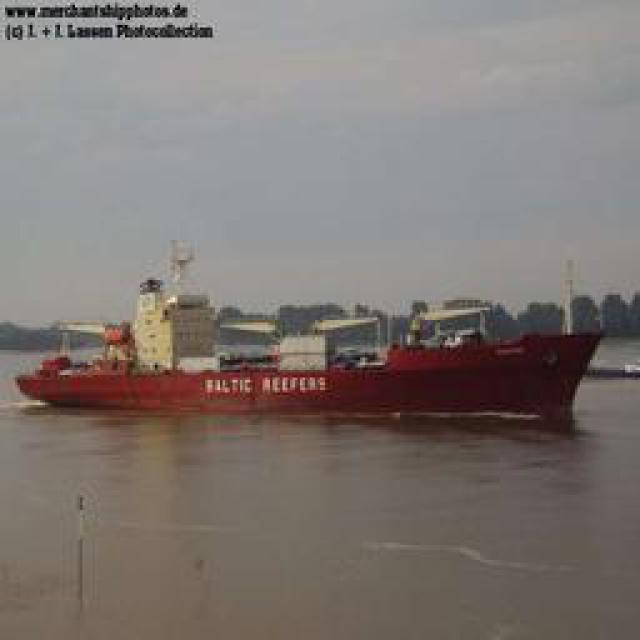Ship: (15, 310, 610, 420)
